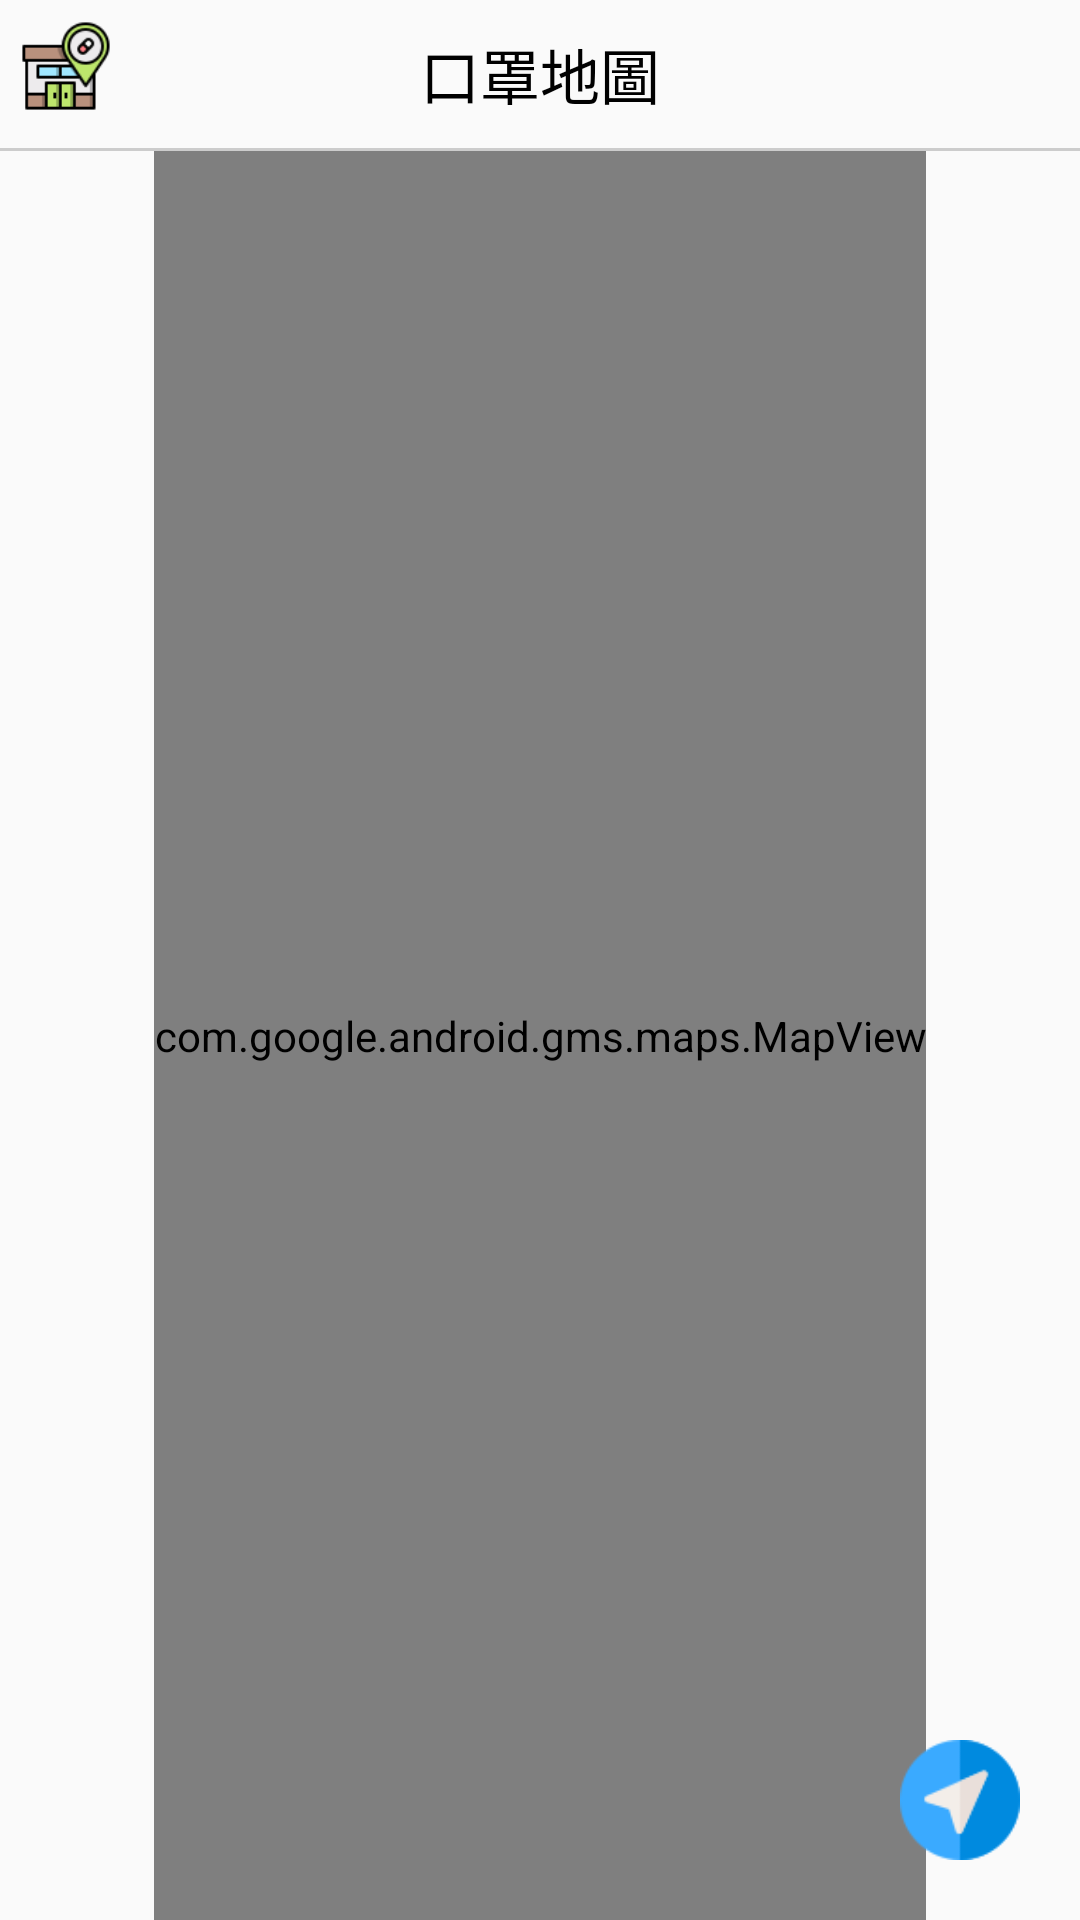

Icons on this 1080px x 1920px Android screen, each with the point to tap as (x=x, y=y):
navigator: (x=960, y=1800)
pharmacy: (x=66, y=66)
